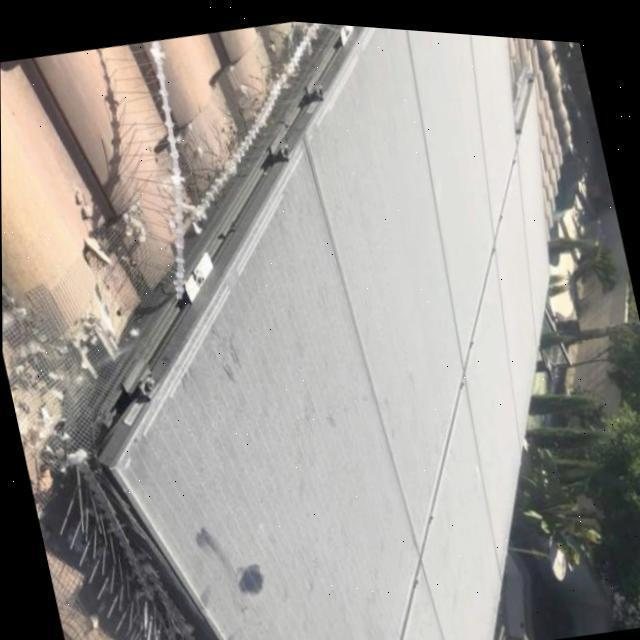Surface Contaminant: (52, 118, 416, 640), (376, 22, 640, 595), (278, 16, 493, 568), (400, 543, 510, 640)
